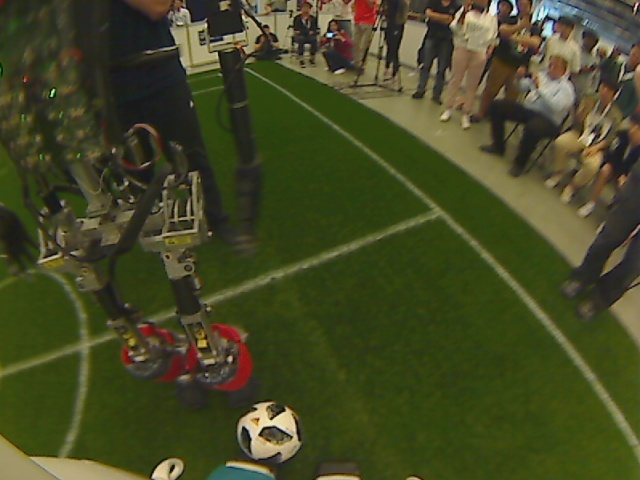ball: (233, 398, 306, 467)
robot: (2, 1, 263, 413)
